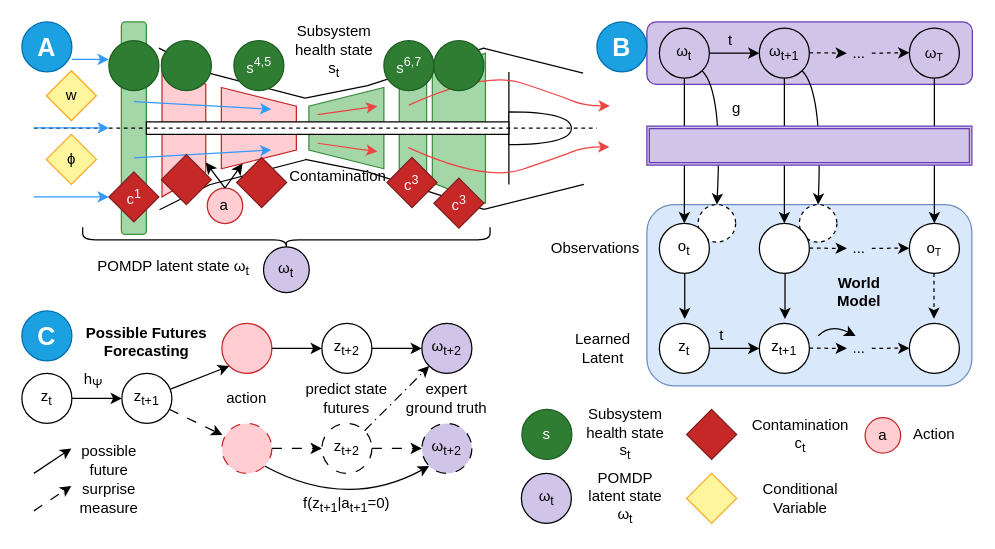
This 995x549 diagram has some shape labels left out. The shapes that lost their labels are listed below. From the top down, each one's centre as x and y in pixels, then its label:
At (x=133, y=65): "s 2,3".
At (x=185, y=65): "s 0,1".
At (x=458, y=65): "s 8,9".
At (x=809, y=145): "Turbosens Engine".
At (x=185, y=179): "c 0".
At (x=261, y=182): "c 2".
At (x=716, y=222): "a t".
At (x=817, y=222): "a t+1".
At (x=783, y=247): "o t+1".
At (x=246, y=347): "a t+1 =1".
At (x=933, y=347): "z T-w".
At (x=246, y=447): "a t+1 =0".
